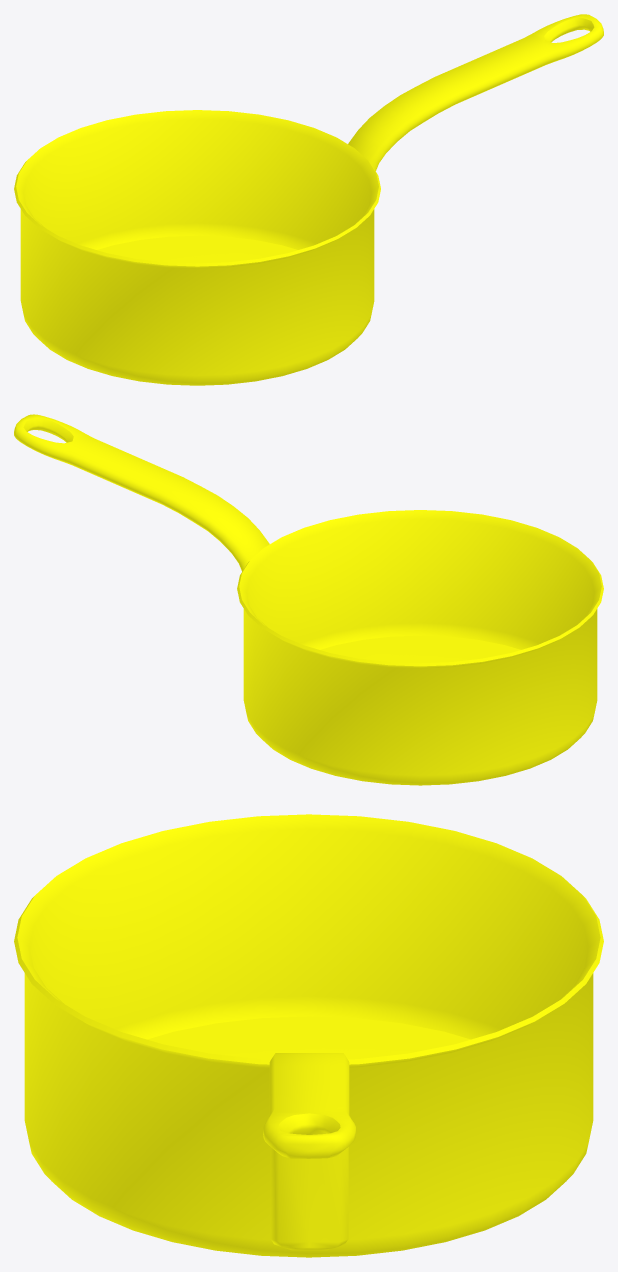
The picture shows the model from 3 angles, top to bottom: view 1: azimuth 30°, elevation 25°; view 2: azimuth 150°, elevation 25°; view 3: azimuth 270°, elevation 25°; orthographic projection. The views are drawn at different scales.
Parts seen in each view (by area): view 1: Pan3; view 2: Pan3; view 3: Pan3.
Boxes of the visible parts, box(x1,y1,x2,y2) form: Pan3: box(14, 14, 603, 385); Pan3: box(14, 414, 603, 785); Pan3: box(14, 814, 603, 1257).
Bounding box in the file's own units: 0.2923 × 0.0986 × 0.1661.
1 material, 1 textured.
